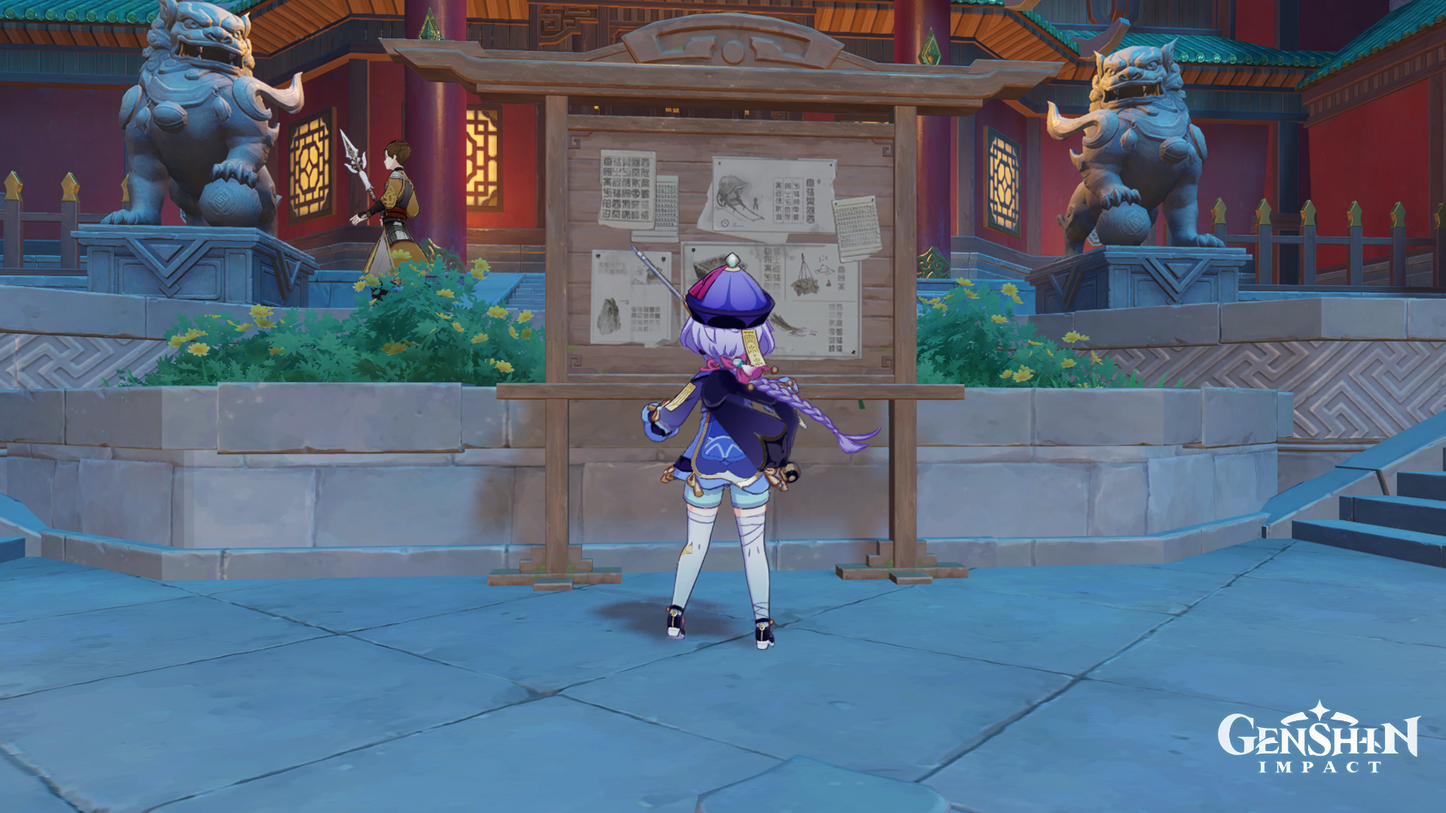Human: (641, 260, 810, 662), (352, 140, 427, 293)
